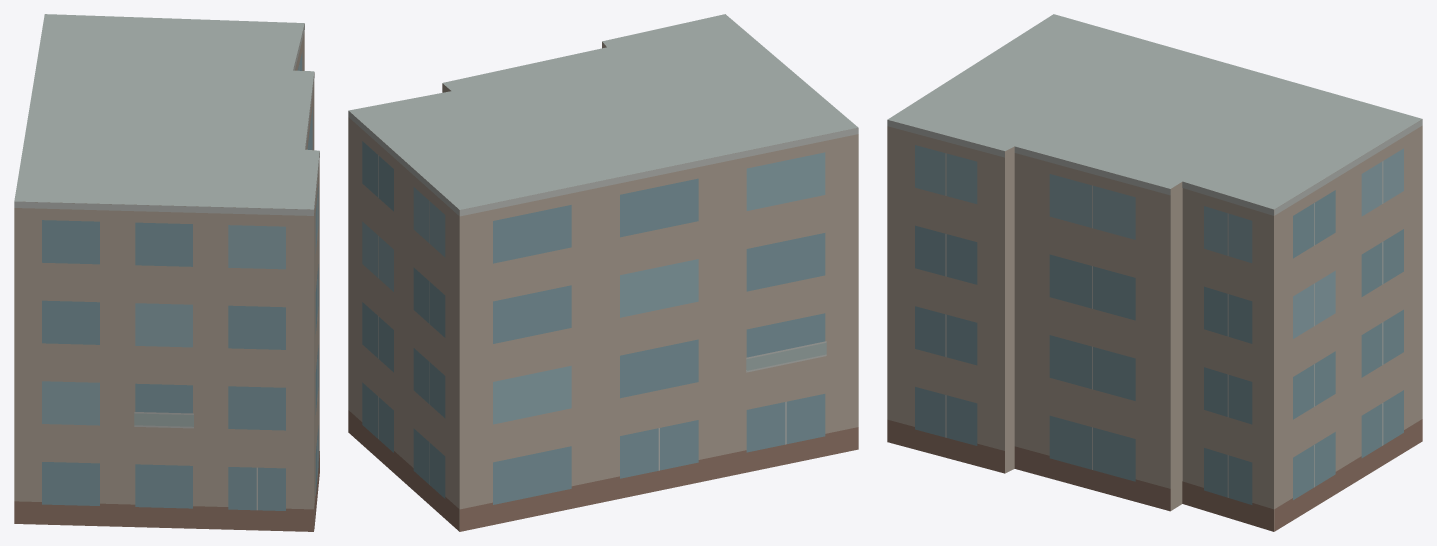
The model's file is survey-upis-32637628.glb.
3 renders of one model, left to right at view 1: azimuth 30°, elevation 25°; view 2: azimuth 150°, elevation 25°; view 3: azimuth 270°, elevation 25°, orthographic.
Parts seen in each view (by area): view 1: survey-upis-32637628.tmp; view 2: survey-upis-32637628.tmp; view 3: survey-upis-32637628.tmp.
Boxes of the visible parts, box(x1,y1,x2,y2) form: survey-upis-32637628.tmp: box(14, 14, 319, 531); survey-upis-32637628.tmp: box(348, 14, 858, 531); survey-upis-32637628.tmp: box(887, 14, 1422, 531).
Bounding box in the file's own units: 15.88 × 12.2 × 18.37.
